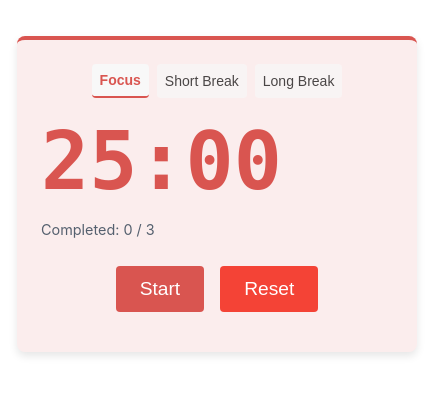
it: PomodoroTimer.vue › completes a pomodoro and transitions to break
The width and height of the screenshot is (435, 394).
Click the button with class "start". click: click(160, 288)
box: [116,266,204,312]
Wait 1500000 ms
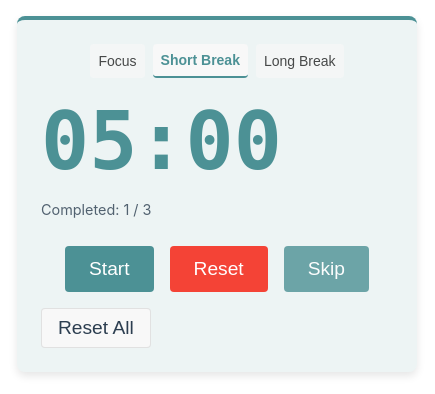
Check: the text "Completed: 1 / 3" is shown, box [41,202,151,218]
Check: the text with class "timer" reads "05:00", box [41,96,282,188]
